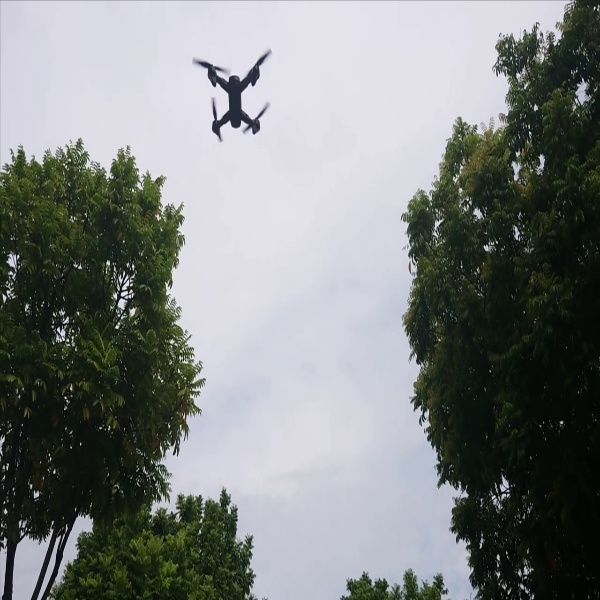drone: (181, 35, 278, 143)
